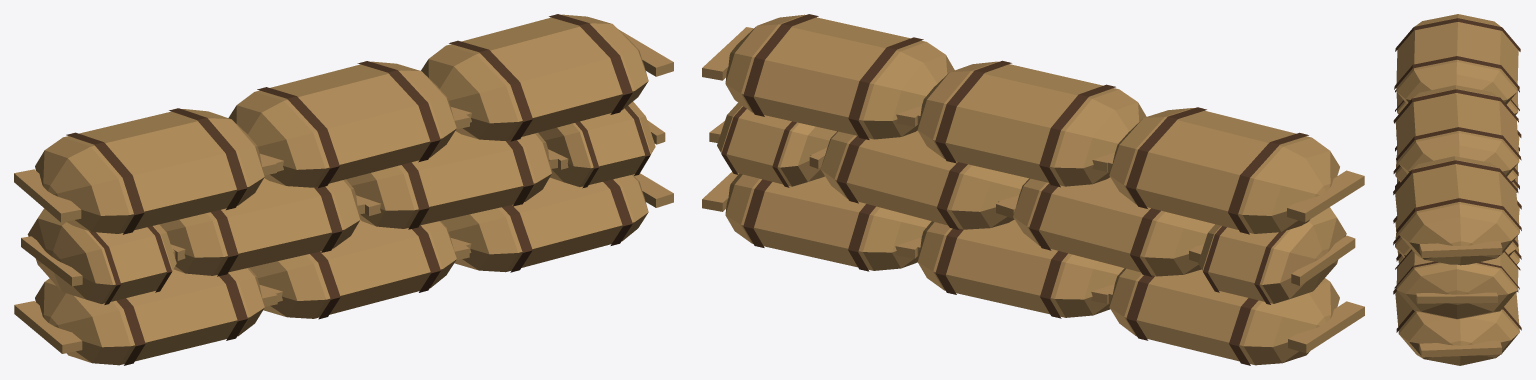
The model's file is sandbag_wall.glb.
3 renders of one model, left to right at view 1: azimuth 30°, elevation 25°; view 2: azimuth 150°, elevation 25°; view 3: azimuth 270°, elevation 25°, orthographic. The views are drawn at different scales.
Parts seen in each view (by area): view 1: Merged8, Merged10, Merged9, Merged, Merged3, Merged6, Merged2, Merged5, Merged4, Merged7; view 2: Merged8, Merged10, Merged9, Merged, Merged3, Merged2, Merged6, Merged5, Merged4, Merged7; view 3: Merged10, Merged9, Merged8, Merged7, Merged3, Merged6, Merged4, Merged5, Merged2, Merged.
Part boxes in pixels (x1=…): Merged8: x1=14, y1=108, x2=283, y2=234; Merged10: x1=421, y1=14, x2=673, y2=141; Merged9: x1=228, y1=61, x2=471, y2=188; Merged: x1=14, y1=267, x2=282, y2=365; Merged3: x1=441, y1=173, x2=673, y2=272; Merged6: x1=346, y1=131, x2=568, y2=229; Merged2: x1=249, y1=220, x2=471, y2=319; Merged5: x1=159, y1=178, x2=380, y2=276; Merged4: x1=21, y1=208, x2=185, y2=304; Merged7: x1=538, y1=101, x2=665, y2=188; Merged8: x1=1092, y1=107, x2=1364, y2=234; Merged10: x1=702, y1=14, x2=954, y2=139; Merged9: x1=896, y1=60, x2=1146, y2=187; Merged: x1=1091, y1=268, x2=1364, y2=365; Merged3: x1=702, y1=172, x2=931, y2=271; Merged2: x1=895, y1=219, x2=1124, y2=318; Merged6: x1=810, y1=130, x2=1028, y2=229; Merged5: x1=998, y1=177, x2=1214, y2=276; Merged4: x1=1190, y1=207, x2=1355, y2=304; Merged7: x1=709, y1=102, x2=836, y2=187; Merged10: x1=1393, y1=156, x2=1521, y2=265; Merged9: x1=1393, y1=85, x2=1521, y2=176; Merged8: x1=1394, y1=14, x2=1520, y2=104; Merged7: x1=1394, y1=249, x2=1520, y2=319; Merged3: x1=1393, y1=287, x2=1521, y2=365; Merged6: x1=1393, y1=200, x2=1521, y2=257; Merged4: x1=1395, y1=89, x2=1519, y2=115; Merged5: x1=1393, y1=130, x2=1521, y2=182; Merged2: x1=1393, y1=216, x2=1521, y2=264; Merged: x1=1395, y1=146, x2=1519, y2=192.
Size of the model in its own units: 2.05 by 0.6746 by 0.4903.
